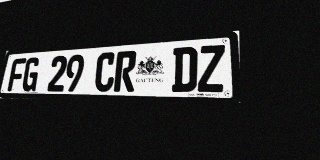2: (47, 55, 68, 91)
9: (64, 54, 85, 91)
C: (94, 52, 116, 92)
D: (171, 46, 198, 92)
F: (7, 58, 26, 91)
G: (21, 57, 41, 91)
R: (113, 50, 137, 92)
Z: (197, 44, 225, 92)
